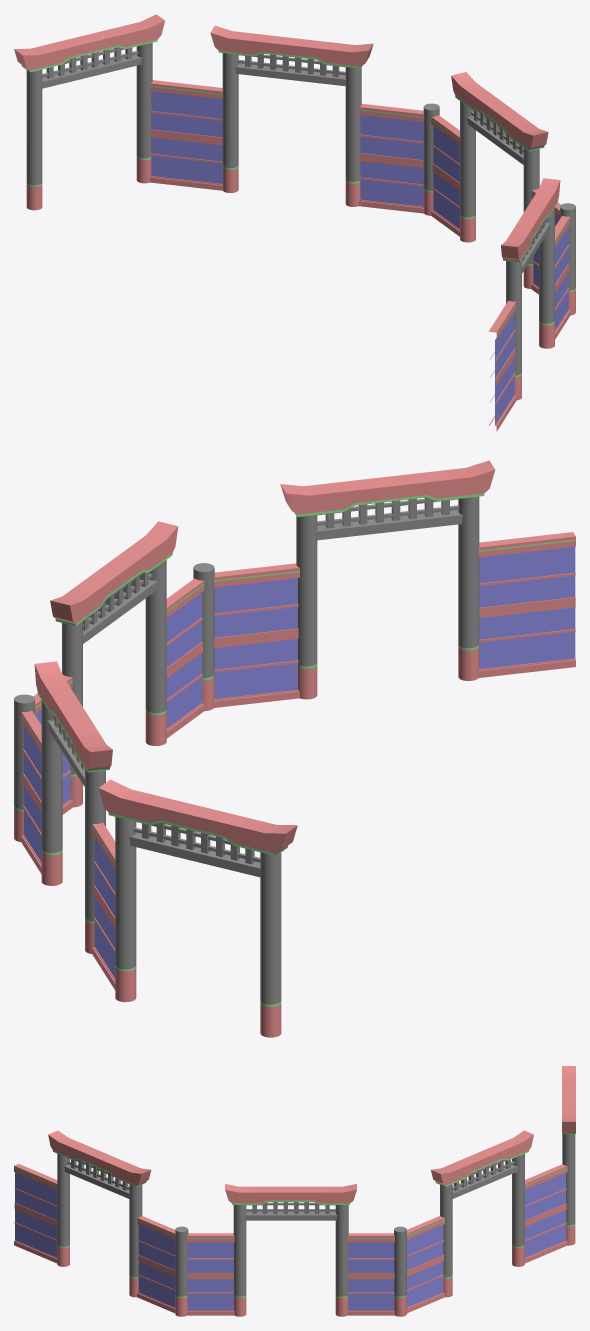
Rendered from SM_ENV_KNVLLG03_YaguraGate_02.gltf.
The picture shows the model from 3 angles, top to bottom: view 1: azimuth 30°, elevation 25°; view 2: azimuth 150°, elevation 25°; view 3: azimuth 270°, elevation 25°; orthographic projection. The views are drawn at different scales.
Visible parts, largest first — view 1: SM_ENV_KNVLLG03_YaguraGate_02; view 2: SM_ENV_KNVLLG03_YaguraGate_02; view 3: SM_ENV_KNVLLG03_YaguraGate_02.
Boxes of the visible parts, box(x1,y1,x2,y2) form: SM_ENV_KNVLLG03_YaguraGate_02: box(14, 14, 575, 431); SM_ENV_KNVLLG03_YaguraGate_02: box(14, 460, 575, 1037); SM_ENV_KNVLLG03_YaguraGate_02: box(14, 1066, 575, 1316).
Size of the model in its own units: 21.33 by 10.24 by 40.96.
